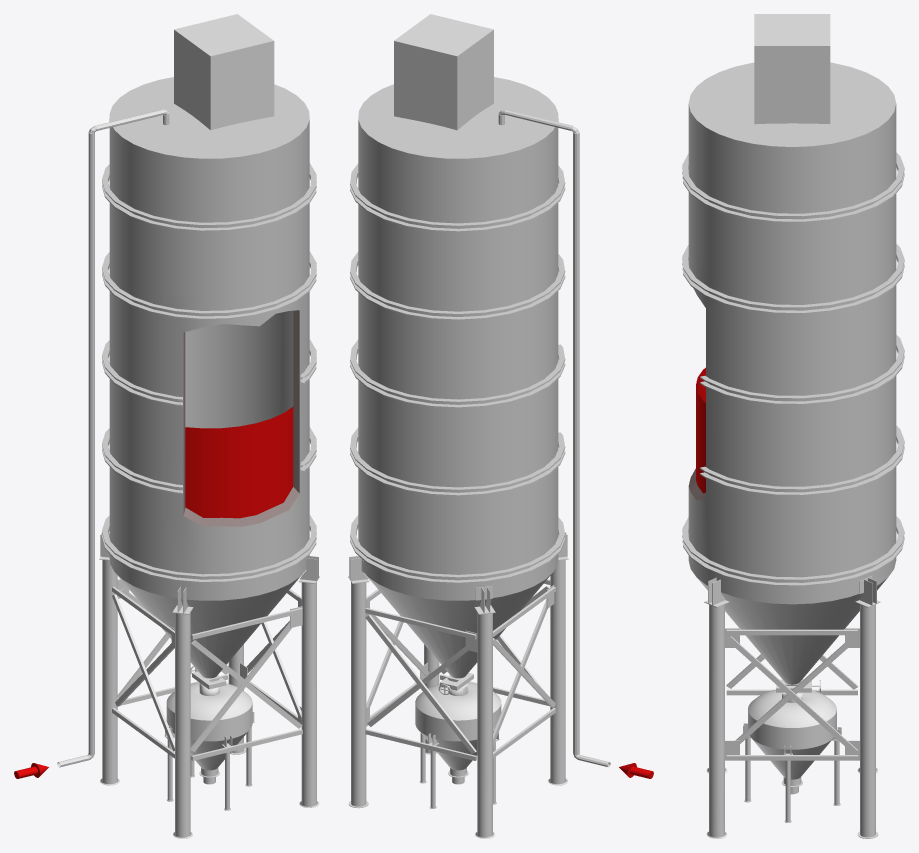
Rendered from Left upper image canister only scene_v004.fbx.
3 renders of one model, left to right at view 1: azimuth 30°, elevation 25°; view 2: azimuth 150°, elevation 25°; view 3: azimuth 270°, elevation 25°, orthographic. The views are drawn at different scales.
Visible parts, largest first — view 1: polySurface906, polySurface108, polySurface908, polySurface907, polySurface113, polySurface268, polySurface263, polySurface271, polySurface879, polySurface883, polySurface880, polySurface889 (+6 smaller); view 2: polySurface906, polySurface108, polySurface907, polySurface113, polySurface271, polySurface278, polySurface268, polySurface879, polySurface880, polySurface882, polySurface883, polySurface909 (+5 smaller); view 3: polySurface906, polySurface108, polySurface907, polySurface263, polySurface278, polySurface880, polySurface879, polySurface883, polySurface882, polySurface909, polySurface889, polySurface886 (+7 smaller).
Part boxes in pixels (x1=…): polySurface906: x1=109, y1=77, x2=309, y2=678; polySurface108: x1=174, y1=14, x2=274, y2=130; polySurface908: x1=185, y1=407, x2=293, y2=518; polySurface907: x1=116, y1=80, x2=302, y2=155; polySurface113: x1=88, y1=133, x2=94, y2=754; polySurface268: x1=173, y1=612, x2=192, y2=838; polySurface263: x1=299, y1=582, x2=319, y2=807; polySurface271: x1=100, y1=560, x2=119, y2=785; polySurface879: x1=102, y1=163, x2=316, y2=231; polySurface883: x1=102, y1=515, x2=316, y2=583; polySurface880: x1=102, y1=251, x2=316, y2=319; polySurface889: x1=166, y1=682, x2=252, y2=720; polySurface906: x1=358, y1=77, x2=558, y2=678; polySurface108: x1=394, y1=14, x2=493, y2=130; polySurface907: x1=365, y1=80, x2=551, y2=155; polySurface113: x1=573, y1=133, x2=579, y2=754; polySurface271: x1=475, y1=612, x2=494, y2=838; polySurface278: x1=351, y1=582, x2=366, y2=806; polySurface268: x1=548, y1=560, x2=567, y2=785; polySurface879: x1=350, y1=163, x2=565, y2=232; polySurface880: x1=350, y1=252, x2=565, y2=320; polySurface882: x1=350, y1=427, x2=565, y2=496; polySurface883: x1=350, y1=515, x2=565, y2=583; polySurface909: x1=350, y1=339, x2=565, y2=408; polySurface906: x1=688, y1=62, x2=896, y2=684; polySurface108: x1=754, y1=14, x2=830, y2=124; polySurface907: x1=696, y1=66, x2=888, y2=143; polySurface263: x1=706, y1=604, x2=727, y2=838; polySurface278: x1=860, y1=604, x2=875, y2=837; polySurface880: x1=682, y1=244, x2=904, y2=314; polySurface879: x1=682, y1=152, x2=904, y2=223; polySurface883: x1=682, y1=516, x2=904, y2=586; polySurface882: x1=700, y1=425, x2=904, y2=496; polySurface909: x1=700, y1=335, x2=904, y2=405; polySurface889: x1=748, y1=689, x2=836, y2=727; polySurface886: x1=748, y1=710, x2=836, y2=749.
Size of the model in its own units: 30 by 75.47 by 19.5.
